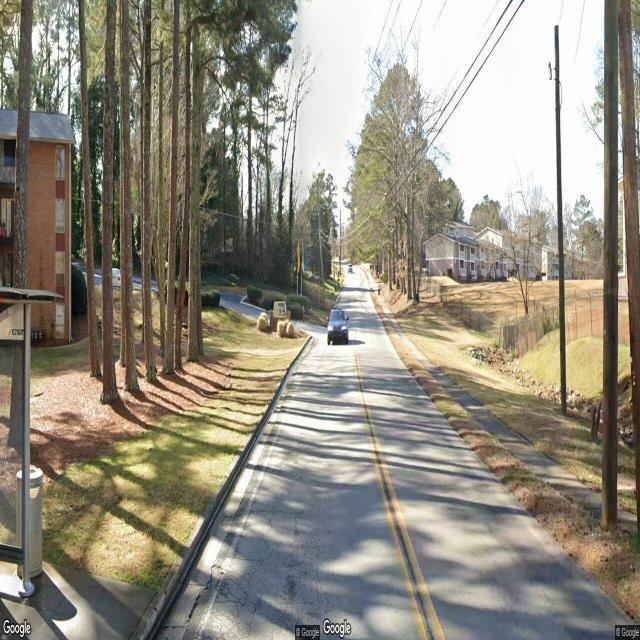shelter: (0, 284, 56, 606)
trash_can: (21, 468, 44, 583)
